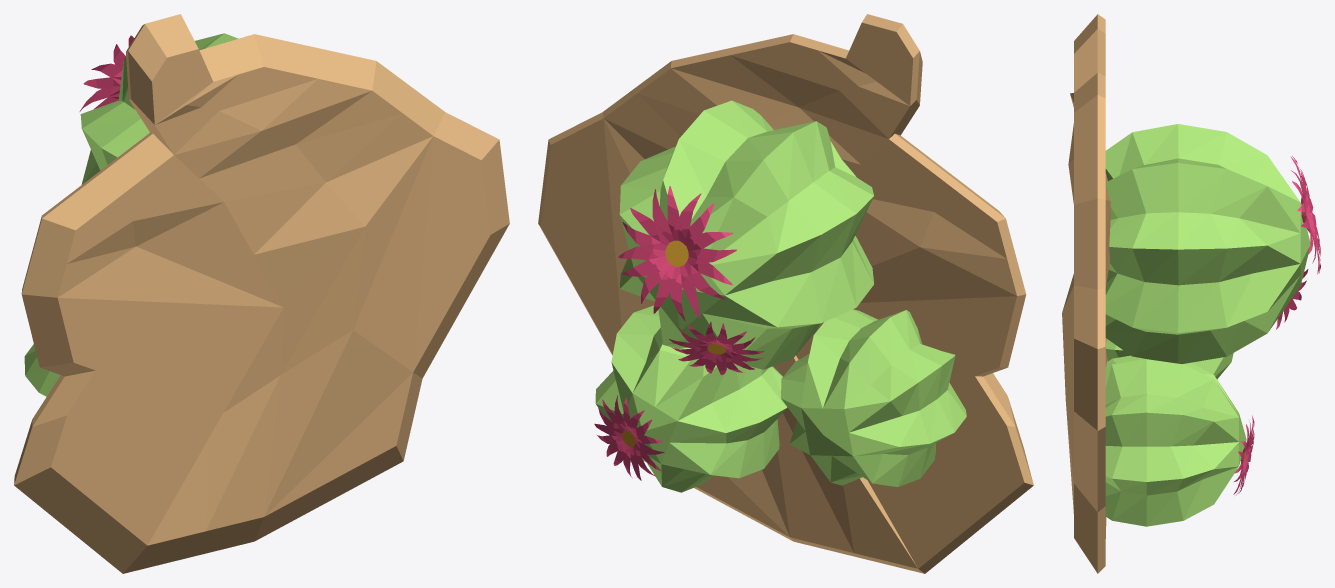
File: FlowerCactus.fbx
3 renders of one model, left to right at view 1: azimuth 30°, elevation 25°; view 2: azimuth 150°, elevation 25°; view 3: azimuth 270°, elevation 25°, orthographic. The views are drawn at different scales.
Visible parts, largest first — view 1: imagetostl_mesh; view 2: imagetostl_mesh; view 3: imagetostl_mesh.
Boxes of the visible parts, x1=… form: imagetostl_mesh: x1=14, y1=14, x2=509, y2=573; imagetostl_mesh: x1=538, y1=14, x2=1033, y2=573; imagetostl_mesh: x1=1062, y1=14, x2=1320, y2=573.
Bounding box in the file's own units: 401 × 422 × 203.
